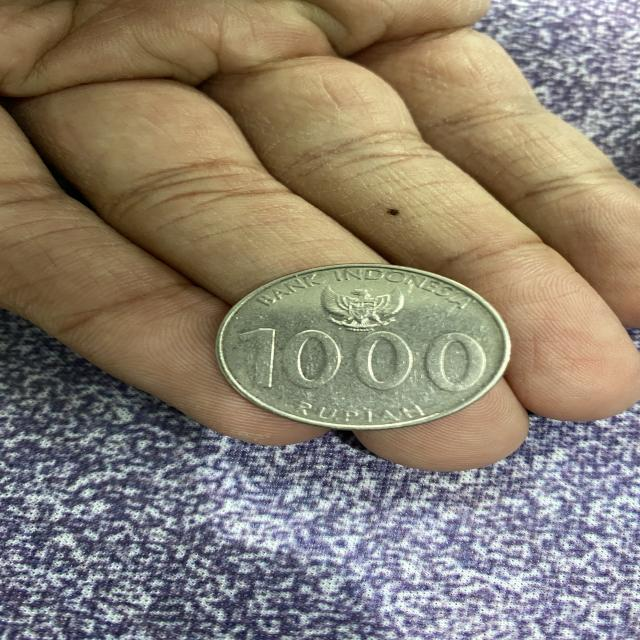1000-angklung: (216, 264, 511, 430)
